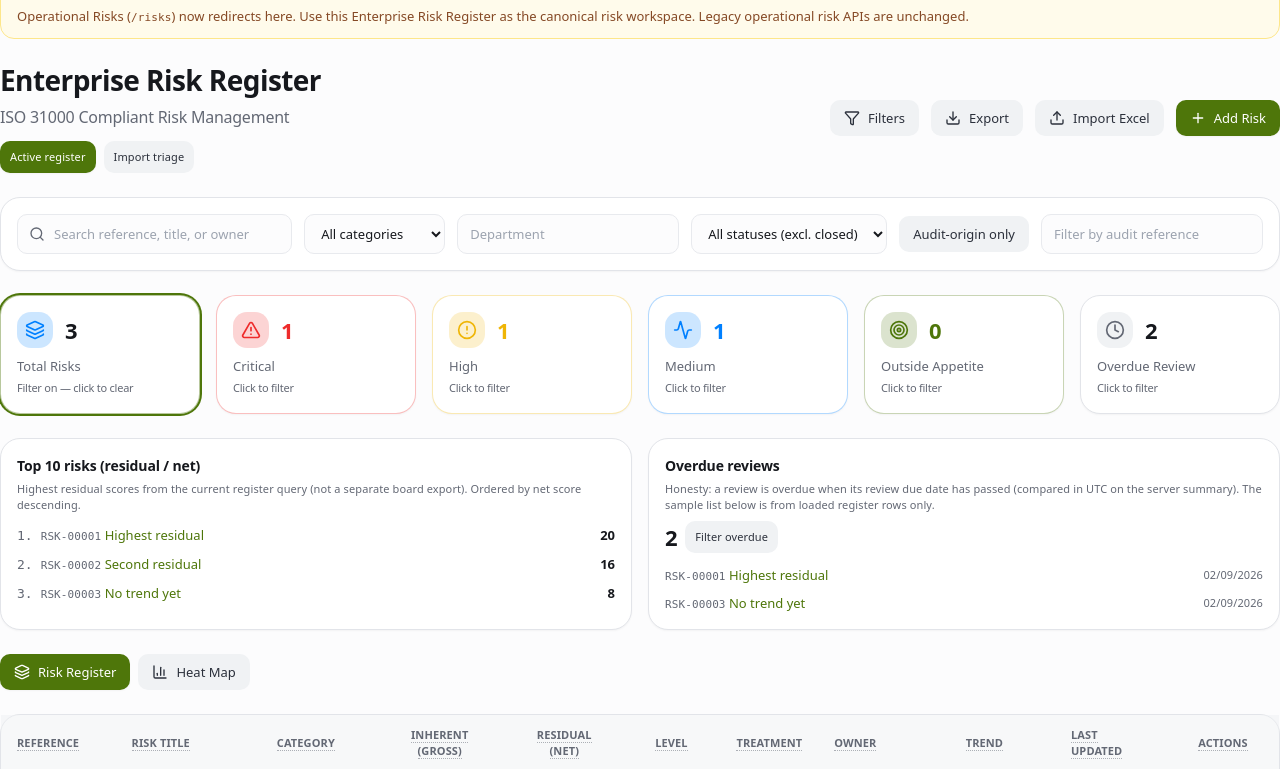
Test: RiskRegister SLT dashboard parity (RR-W5) › overdue filter chip from SLT panel filters the register table
Step 1. Click the button with test id "risk-slt-overdue-filter" → [732, 536], box [685,520,778,552]
(page scrolled)
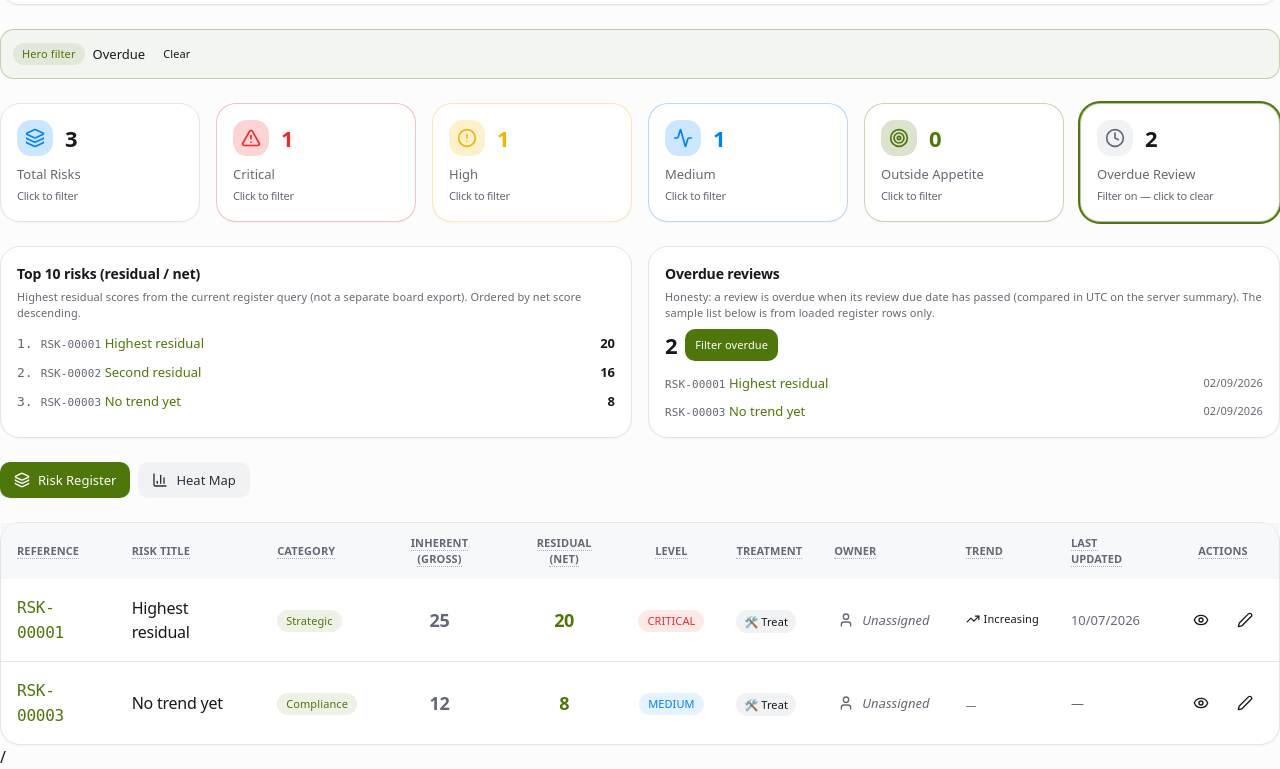
Check: the button with test id "risk-open-1" is shown, box [1183,604,1219,636]
Check: the element with test id "risk-hero-filter-chip" is shown, box [0,29,1279,79]
